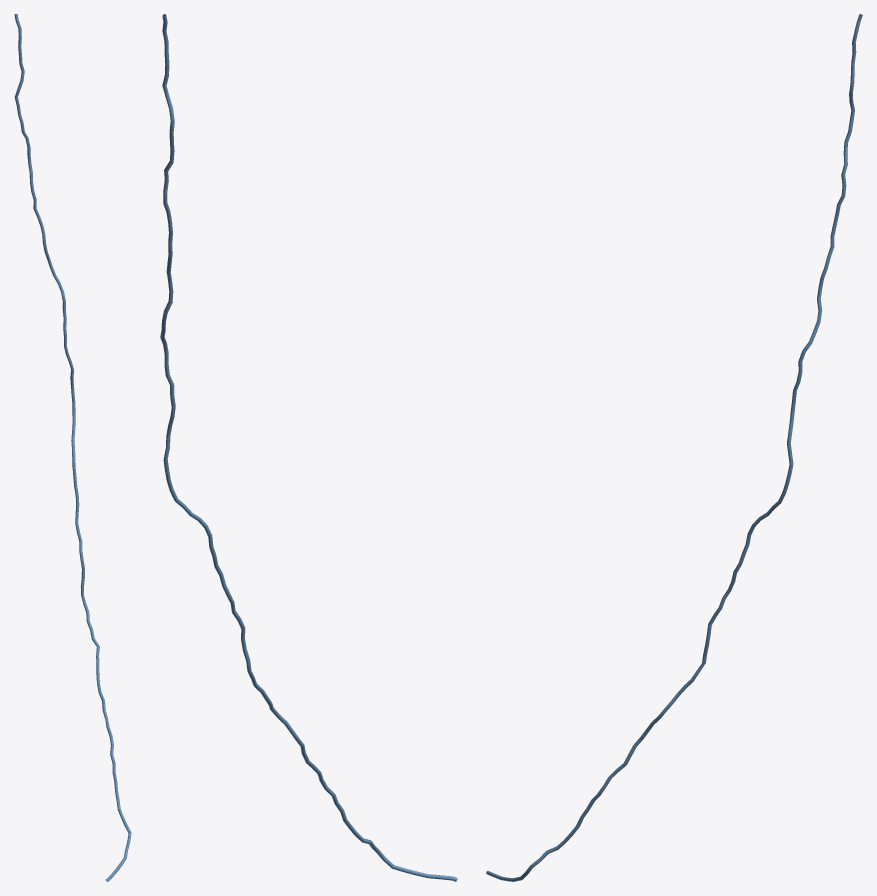
File: sweep326.fbx
The picture shows the model from 3 angles, left to right: view 1: azimuth 30°, elevation 25°; view 2: azimuth 150°, elevation 25°; view 3: azimuth 270°, elevation 25°; orthographic projection. The views are drawn at different scales.
Parts seen in each view (by area): view 1: sweep326; view 2: sweep326; view 3: sweep326.
Boxes of the visible parts, x1,y1,x2,y2 form: sweep326: (14, 14, 131, 881); sweep326: (160, 14, 457, 881); sweep326: (486, 14, 862, 881).
Size of the model in its own units: 0.6627 by 5.05 by 1.92.
